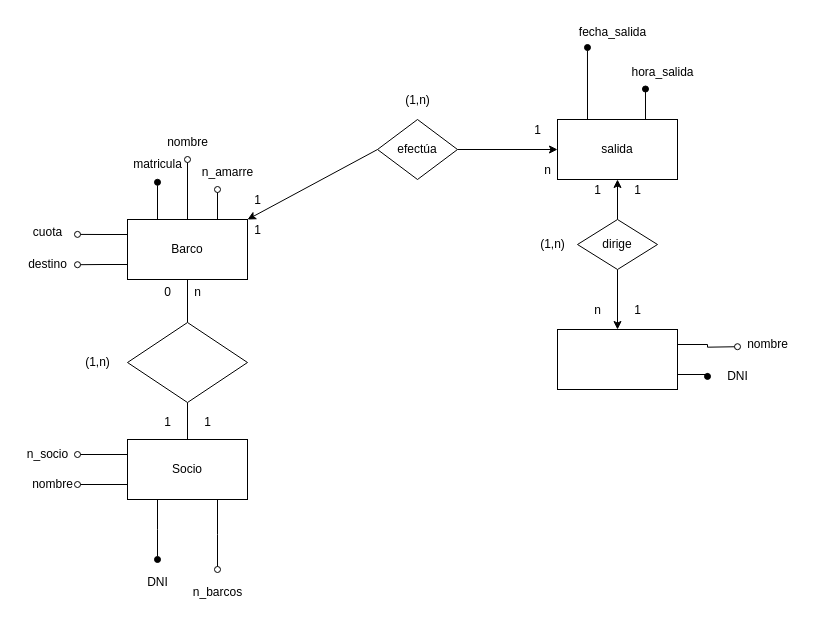
The diagram is 814 pixels wide and 624 high, and some of its shapes have lost their labels. The box of each missing label's shape, as (x1, y1, x2, y2) in pixels:
dueño de: (126, 322, 248, 402)
Patrón: (556, 328, 678, 390)
